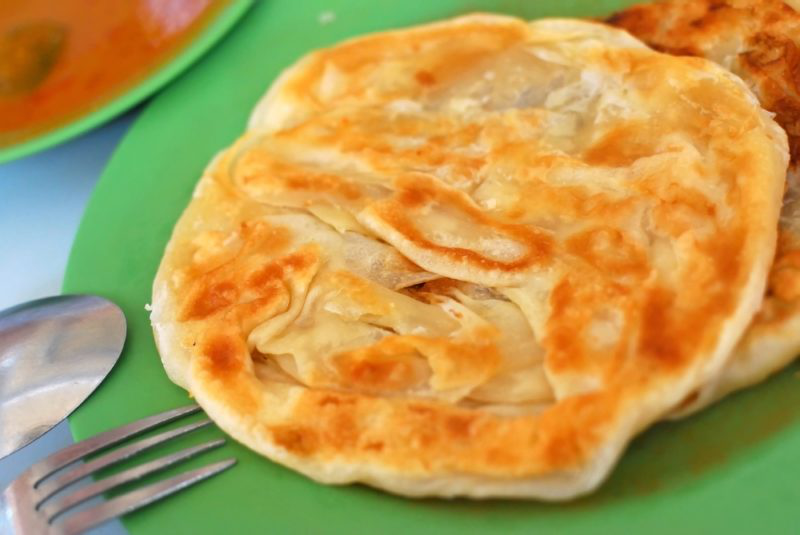Prata: (185, 23, 773, 497)
